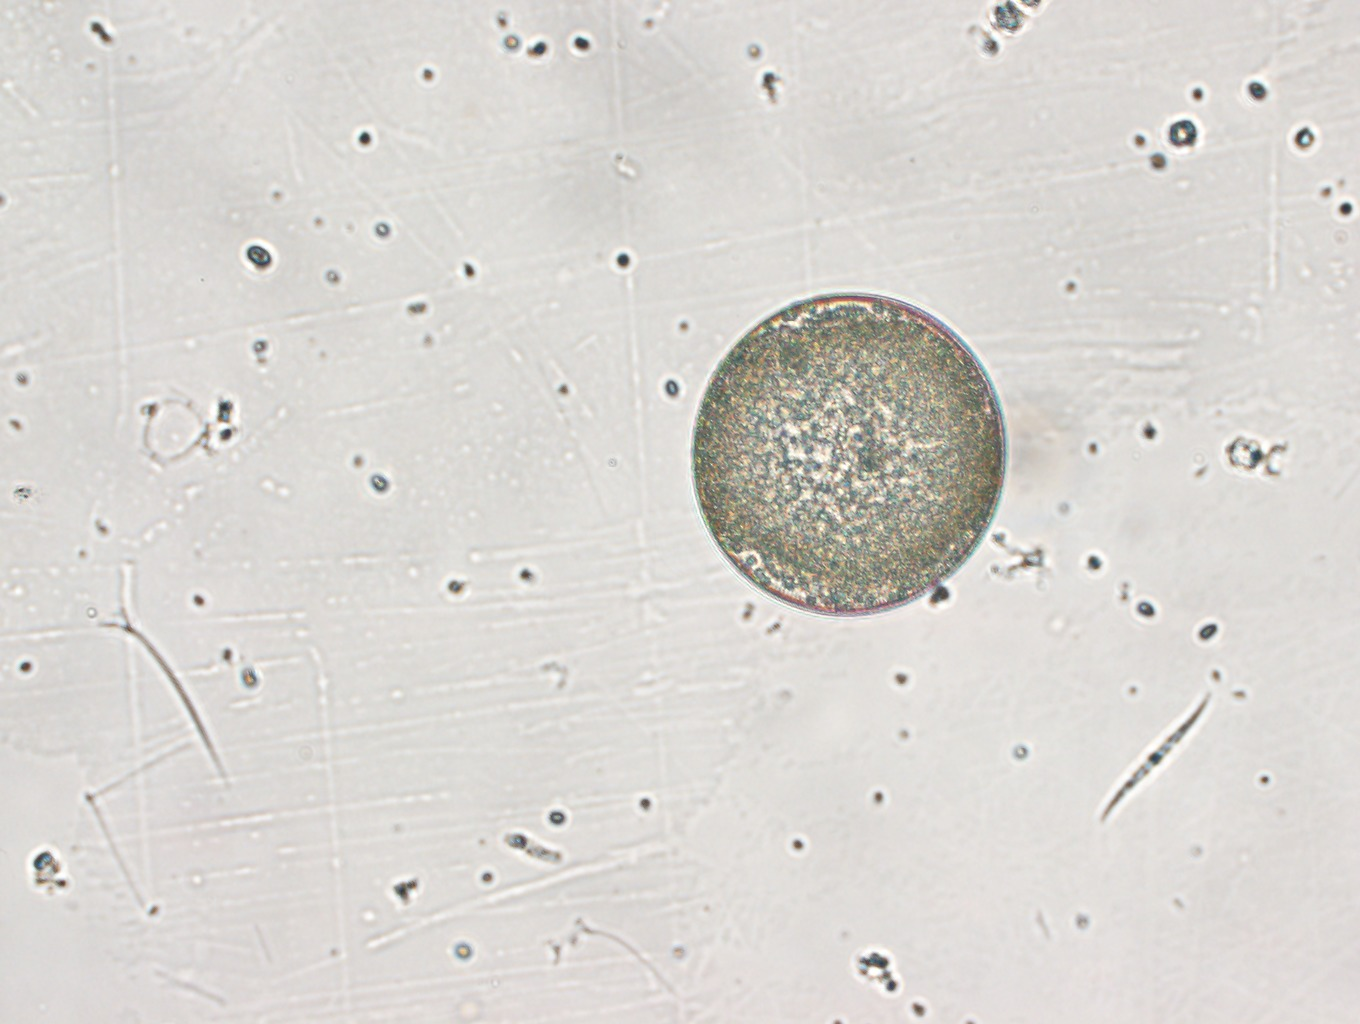coscinodiscus: (691, 291, 1006, 615)
